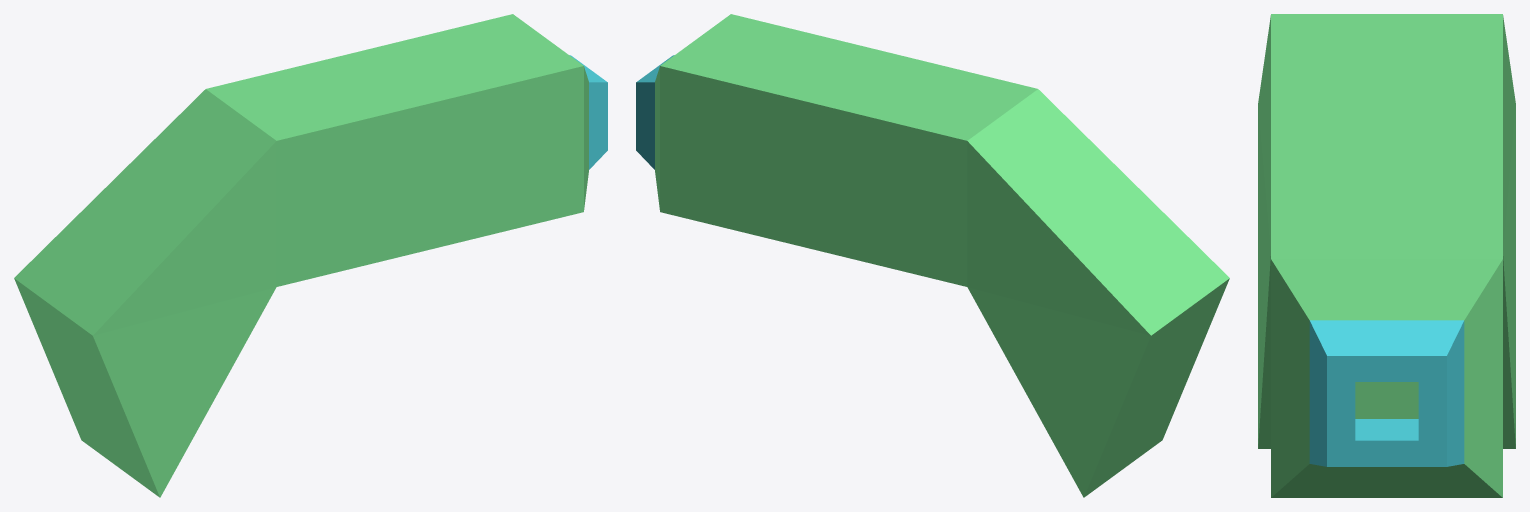
Rendered from gun.fbx.
3 views of the same model, side by side, from view 1: azimuth 30°, elevation 25°; view 2: azimuth 150°, elevation 25°; view 3: azimuth 270°, elevation 25° (orthographic). The views are drawn at different scales.
Parts seen in each view (by area): view 1: Cube; view 2: Cube; view 3: Cube.
Boxes of the visible parts, box(x1,y1,x2,y2) form: Cube: box(14, 14, 607, 497); Cube: box(636, 14, 1229, 497); Cube: box(1258, 14, 1515, 497).
Bounding box in the file's own units: 314 × 182 × 80.
